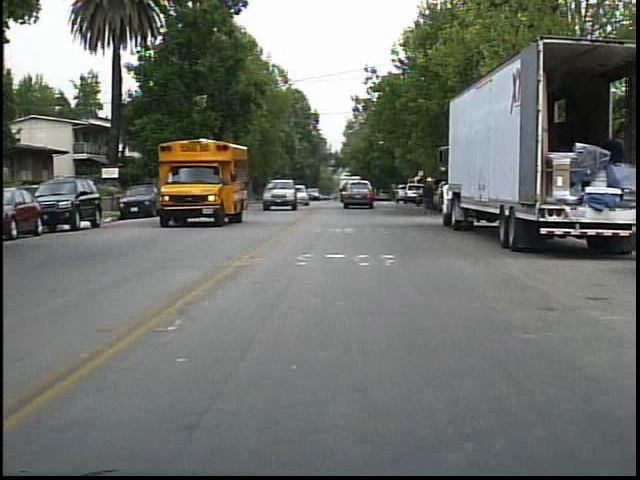person: (416, 173, 439, 220)
